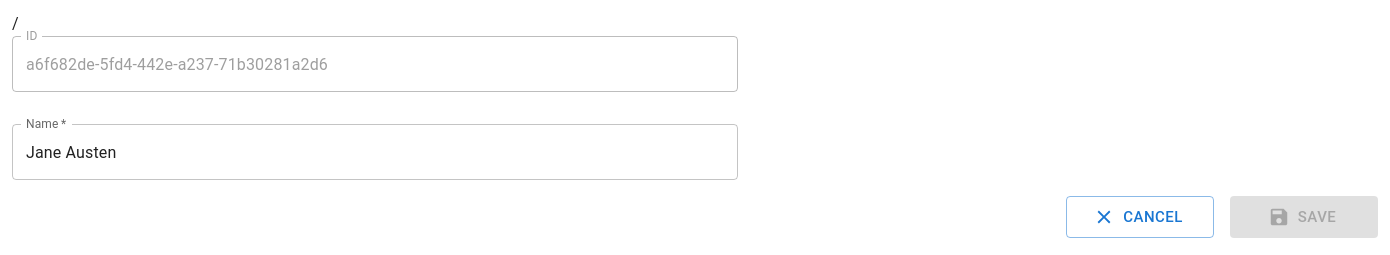
Test: AuthorForm › disables the Save button until the name is changed in edit mode
Expected: the button "Save" is disabled, top-left (1230, 196), bottom-right (1378, 238)
Replace the text in the field showing "Jane Austen" with "Jane Austen Updated": (375, 152) top-left (12, 124), bottom-right (738, 180)
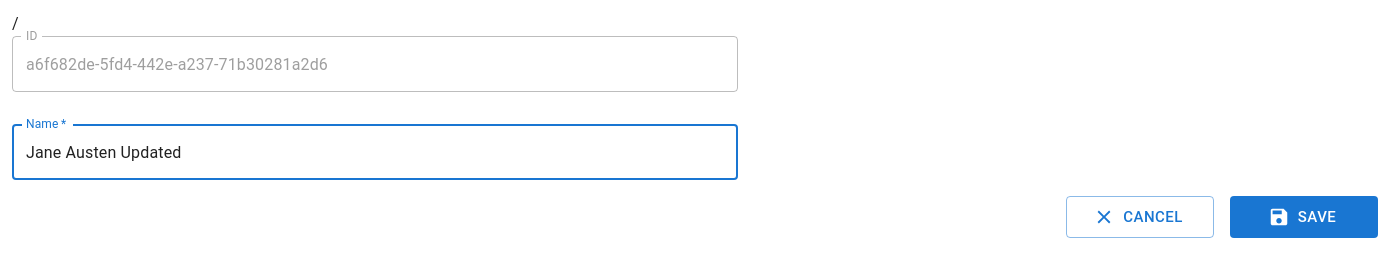
Expected: the button "Save" is enabled, top-left (1230, 196), bottom-right (1378, 238)
